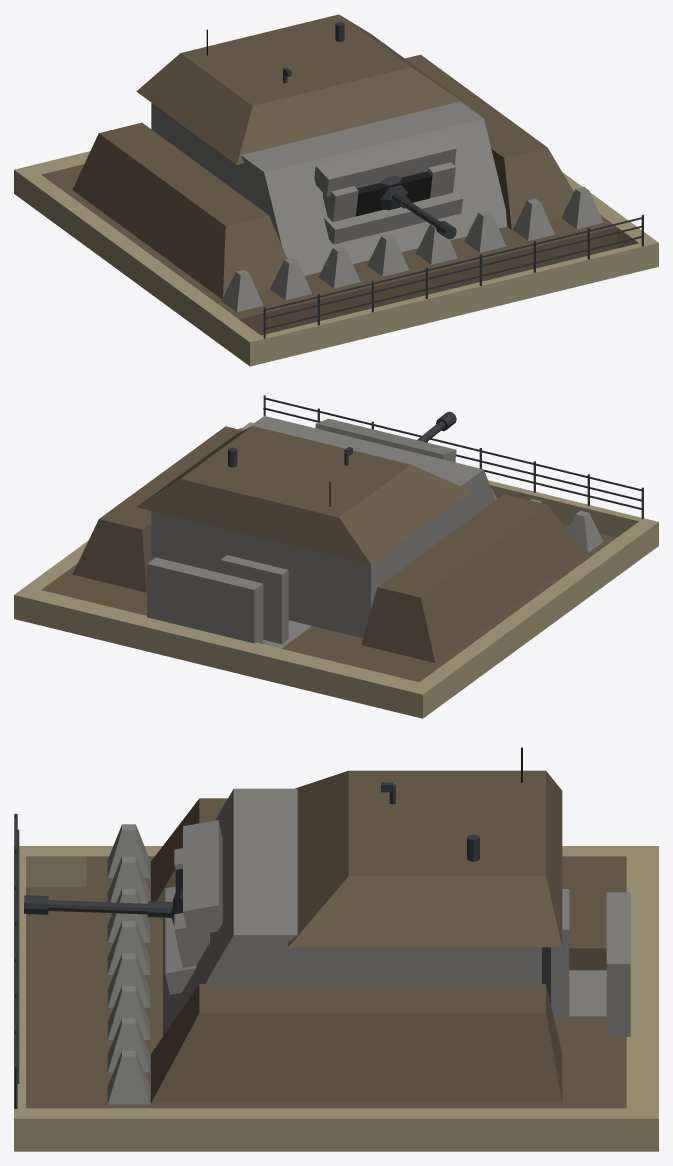
The model's file is Fort_AtPillbox.obj.
The picture shows the model from 3 angles, top to bottom: view 1: azimuth 30°, elevation 25°; view 2: azimuth 150°, elevation 25°; view 3: azimuth 270°, elevation 25°; orthographic projection. The views are drawn at different scales.
Bounding box in the file's own units: 16 × 6.2 × 16.
